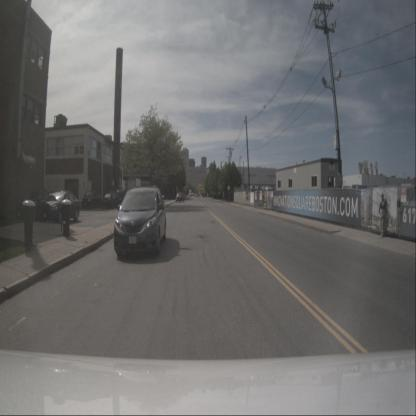human-pedestrian-adult: (378, 193, 386, 238)
vehicle-car: (114, 184, 166, 258), (42, 190, 80, 223), (22, 190, 53, 222), (117, 189, 133, 211), (102, 193, 117, 209), (176, 193, 184, 202)
vehicle-truck: (82, 190, 102, 209)
